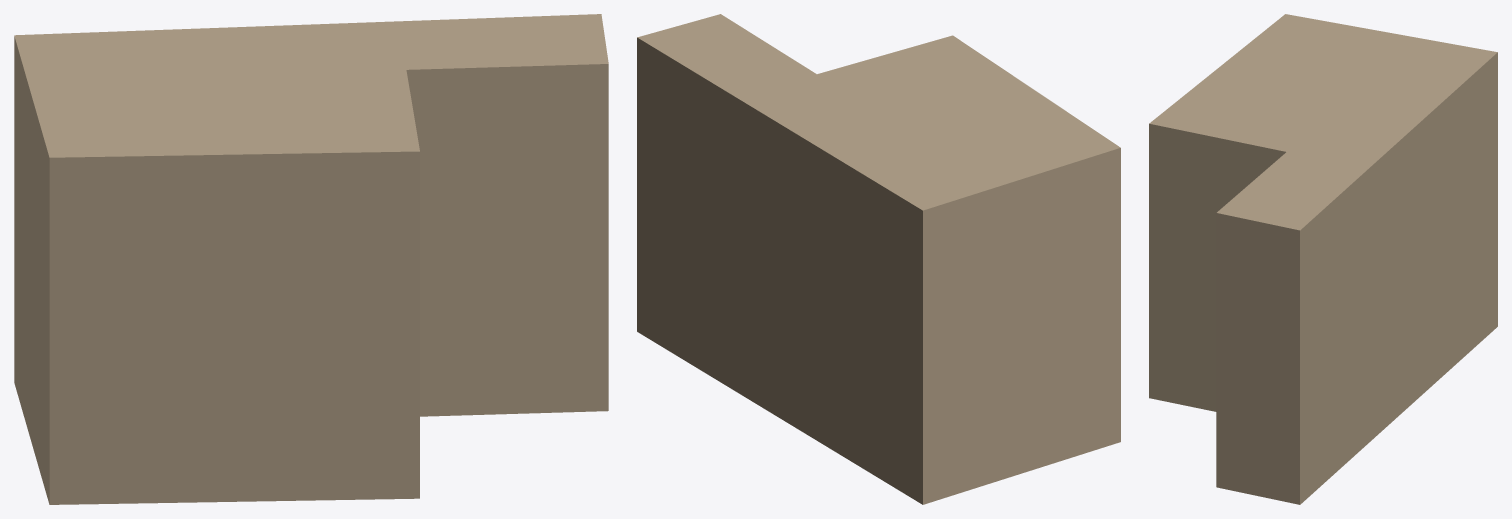
Rendered from bld_98868823.dae.
3 renders of one model, left to right at view 1: azimuth 30°, elevation 25°; view 2: azimuth 150°, elevation 25°; view 3: azimuth 270°, elevation 25°, orthographic. The views are drawn at different scales.
Parts seen in each view (by area): view 1: bld_98868823; view 2: bld_98868823; view 3: bld_98868823.
Boxes of the visible parts, x1,y1,x2,y2 form: bld_98868823: (14,14,608,504); bld_98868823: (637,14,1120,504); bld_98868823: (1149,14,1497,504).
Size of the model in its own units: 13.53 by 9.21 by 8.
